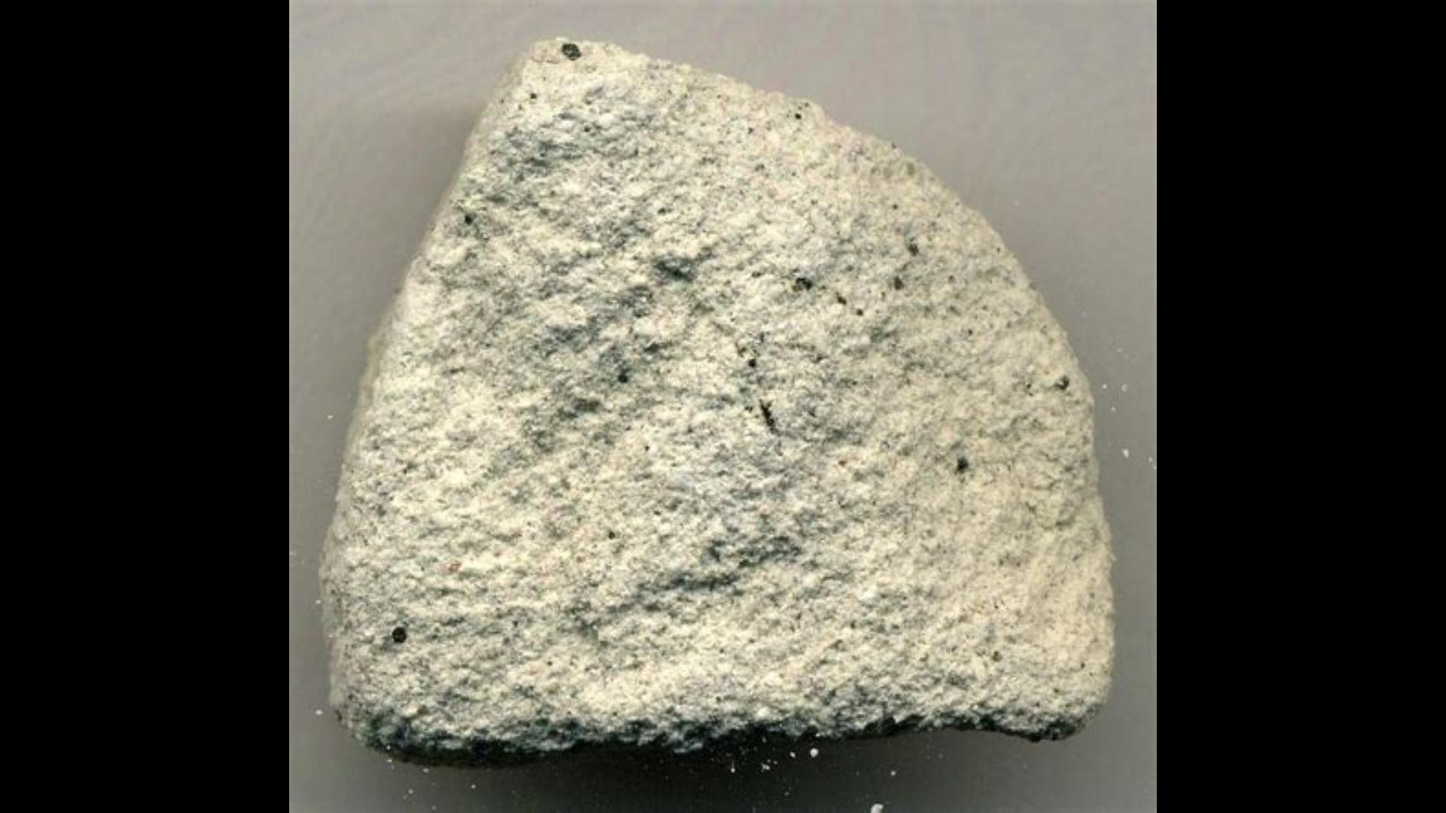rock: (322, 42, 1110, 751)
